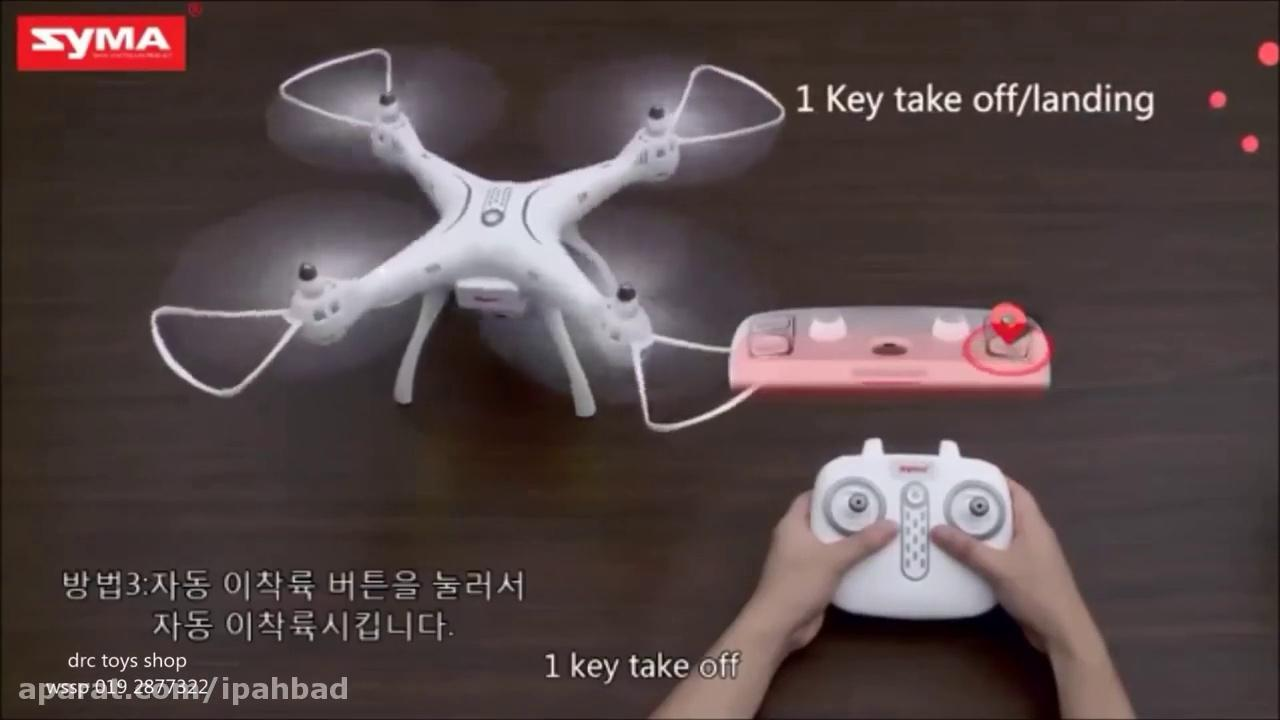drone: (145, 36, 790, 438)
